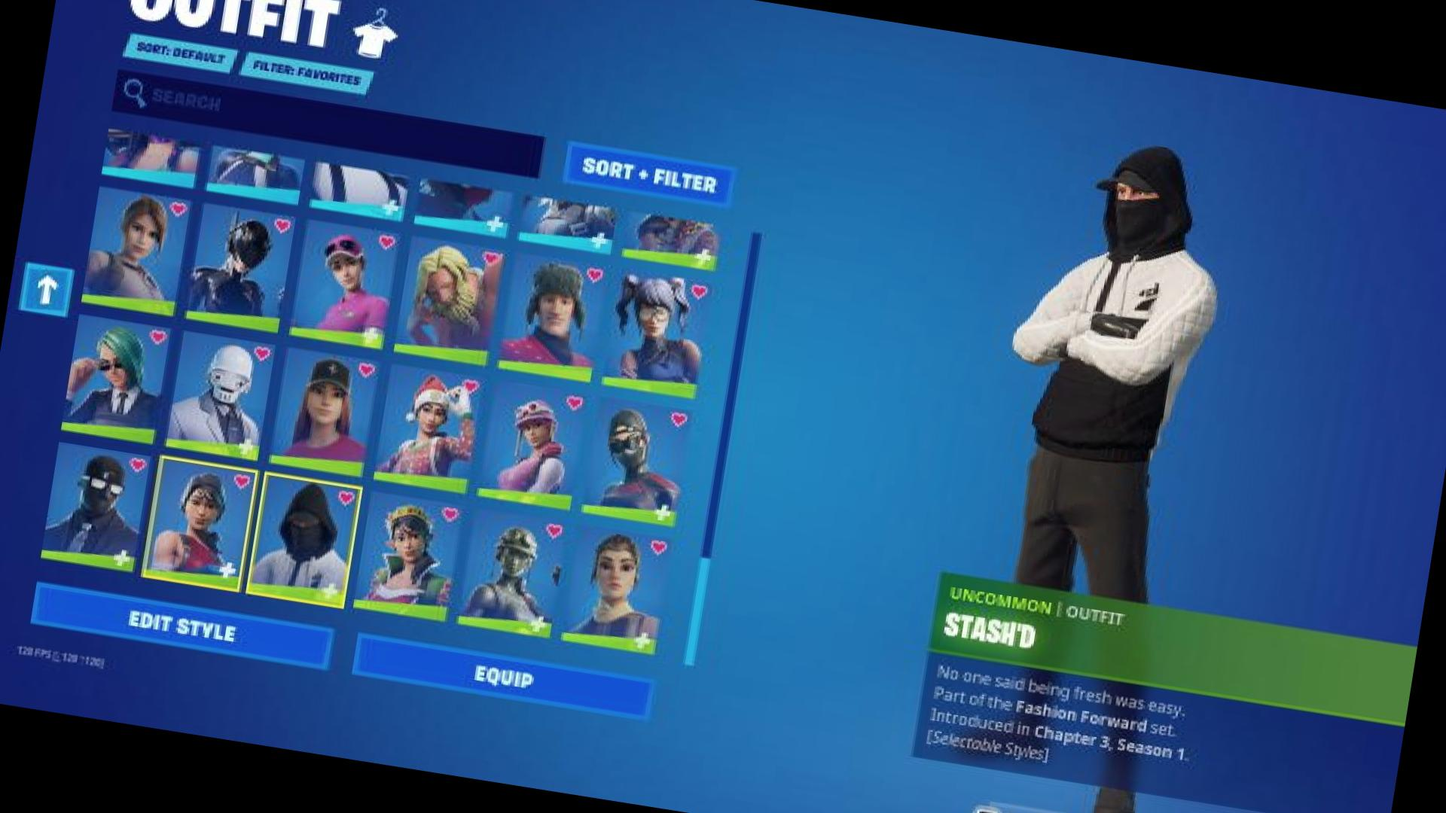player: (889, 117, 1323, 813)
